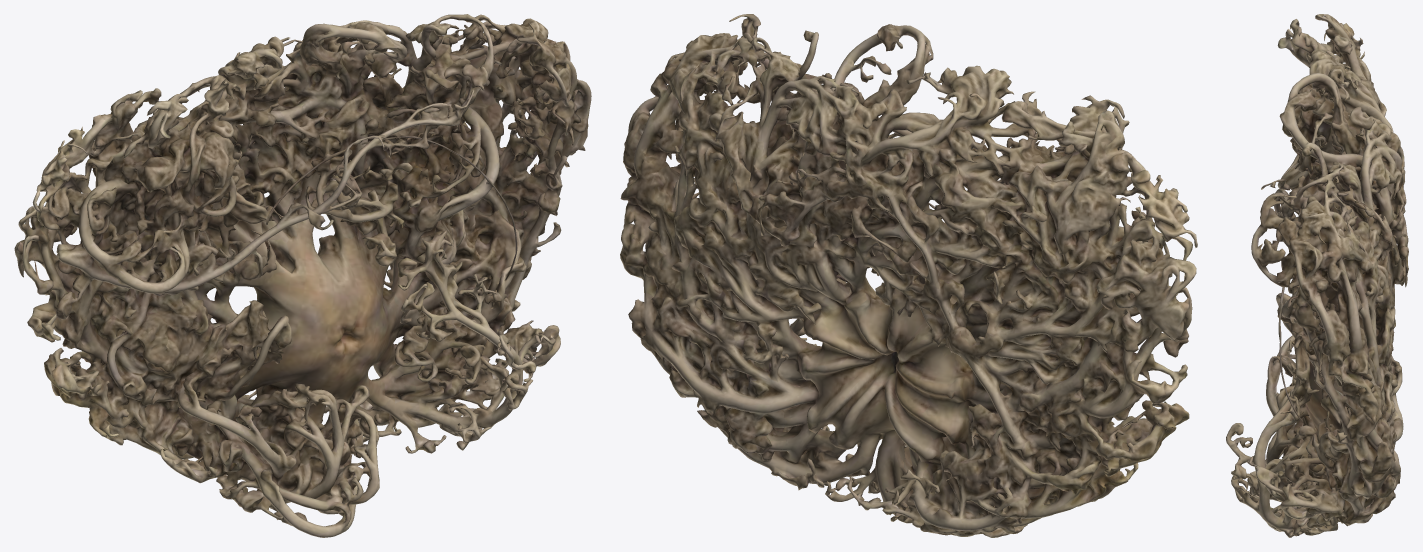
3 views of the same model, side by side, from view 1: azimuth 30°, elevation 25°; view 2: azimuth 150°, elevation 25°; view 3: azimuth 270°, elevation 25° (orthographic). The views are drawn at different scales.
Parts seen in each view (by area): view 1: Astrophyton_muricatum-unwrapped-webmulti; view 2: Astrophyton_muricatum-unwrapped-webmulti; view 3: Astrophyton_muricatum-unwrapped-webmulti.
Part boxes in pixels (left/top/right/bottom): Astrophyton_muricatum-unwrapped-webmulti: left=14, top=14, right=591, bottom=537; Astrophyton_muricatum-unwrapped-webmulti: left=620, top=14, right=1197, bottom=537; Astrophyton_muricatum-unwrapped-webmulti: left=1226, top=14, right=1408, bottom=537.
Bounding box in the file's own units: 7648 × 6325 × 2354.
Materials: 1 (1 with a texture image).
